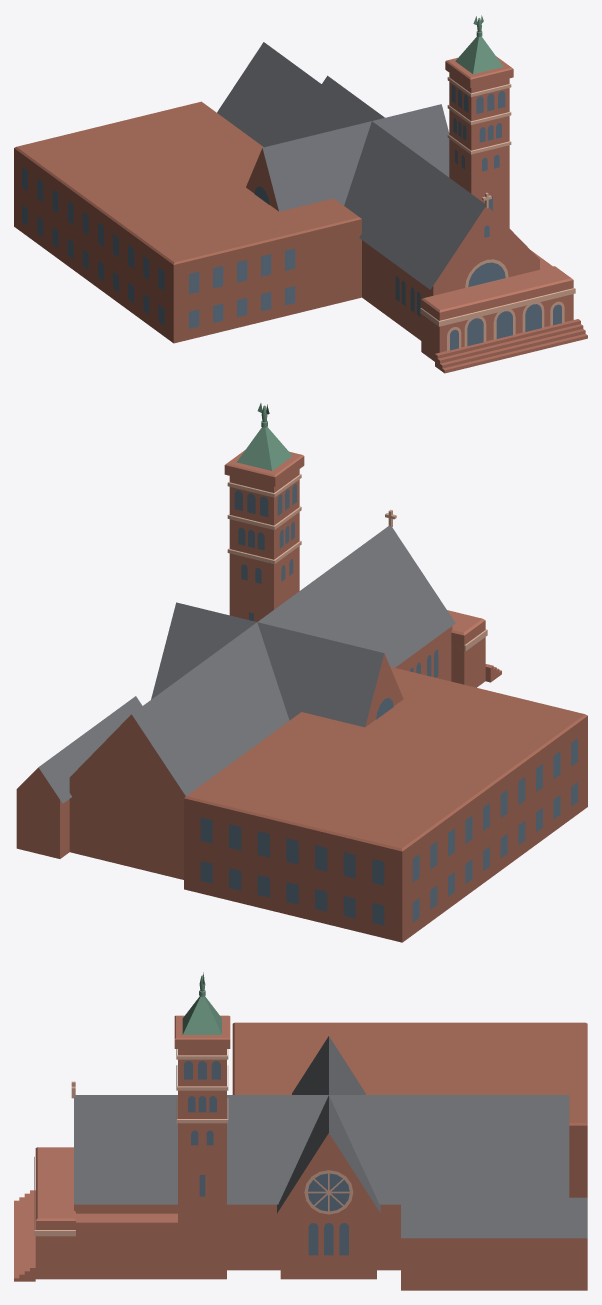
Rendered from det-first-congregational.glb.
3 renders of one model, top to bottom at view 1: azimuth 30°, elevation 25°; view 2: azimuth 150°, elevation 25°; view 3: azimuth 270°, elevation 25°, orthographic. The views are drawn at different scales.
Visible parts, largest first — view 1: First Congregational Church; view 2: First Congregational Church; view 3: First Congregational Church.
Boxes of the visible parts, x1,y1,x2,y2 form: First Congregational Church: [14, 15, 587, 373]; First Congregational Church: [16, 403, 587, 942]; First Congregational Church: [14, 972, 587, 1290].
Size of the model in its own units: 44.65 by 34 by 59.7.
